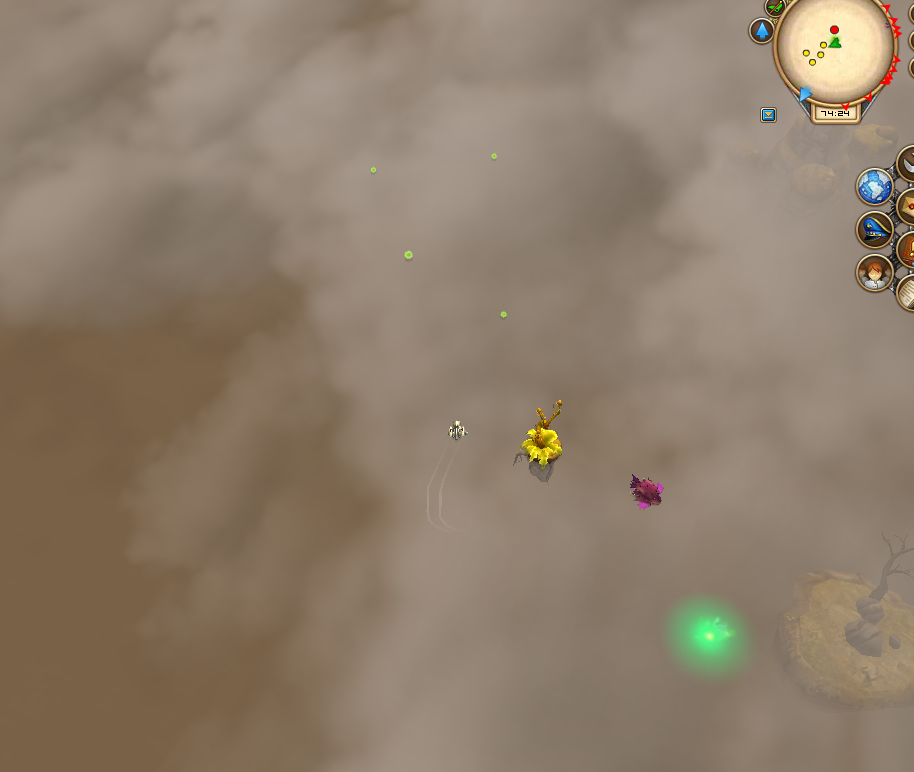dandelion-empty: (519, 402, 565, 475)
fluff: (496, 304, 512, 322), (401, 245, 415, 264), (365, 164, 381, 177), (488, 150, 499, 163)
